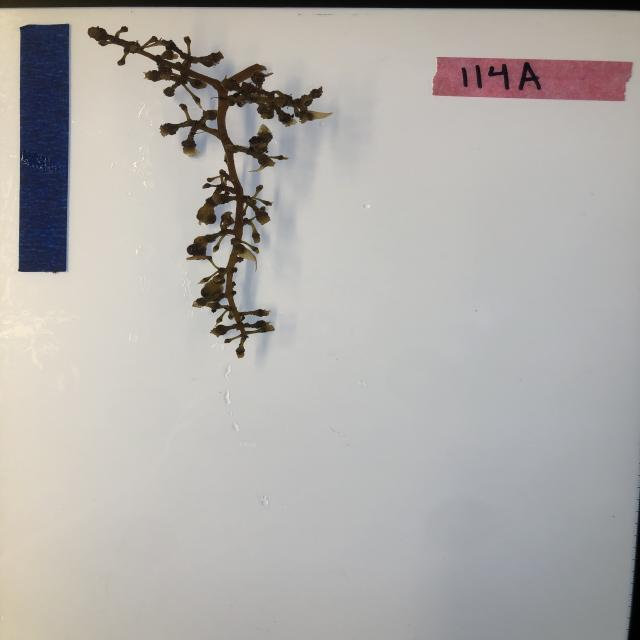index: (429, 52, 634, 102)
measure_label: (18, 21, 72, 276)
rachis_cluster: (85, 24, 335, 362)
